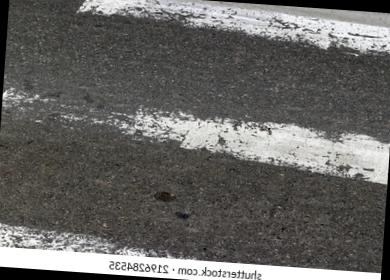faded_road_lines: (0, 81, 390, 187), (71, 0, 390, 59), (0, 217, 214, 261)
